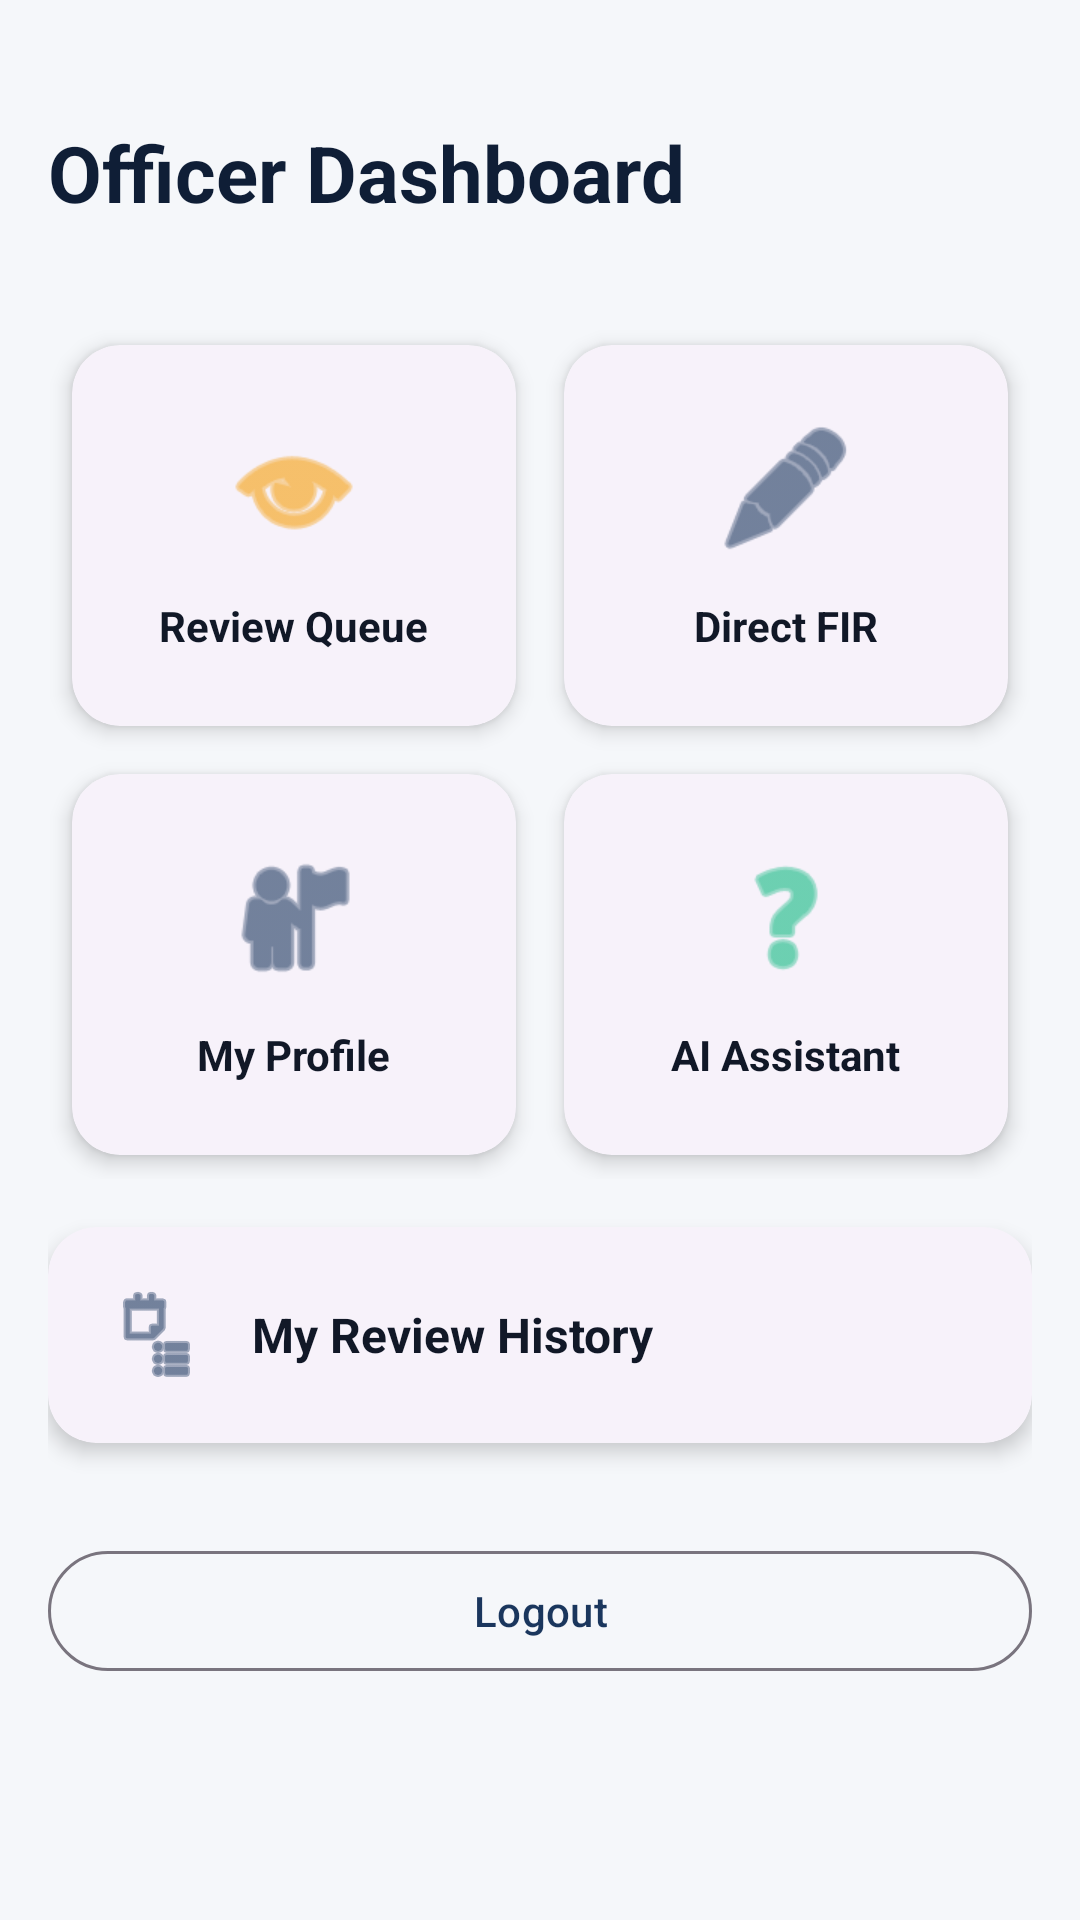

Screen size 1080w x 1920h. Icon name, then its box in pixels as (x1, y1, x2, y2):
agenda: (123, 1292, 190, 1377)
edit: (724, 427, 846, 549)
help: (754, 866, 818, 970)
myplaces: (241, 864, 350, 972)
